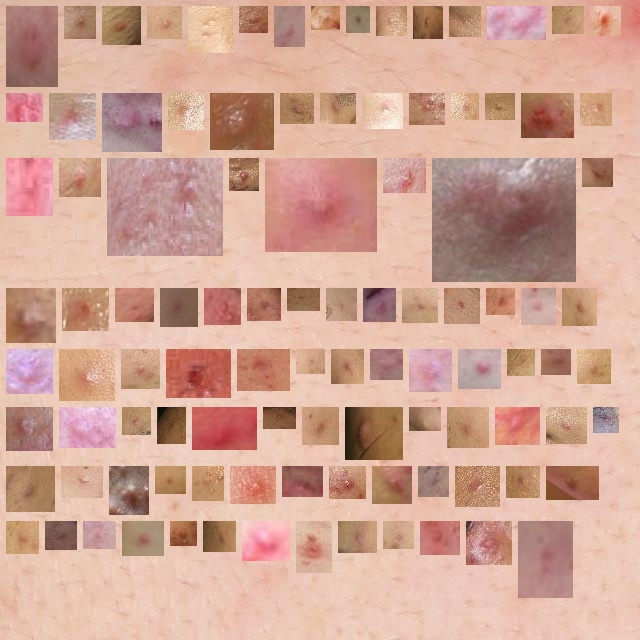papule: (440, 166, 568, 274), (115, 166, 215, 248), (273, 166, 369, 244), (526, 529, 565, 590), (14, 14, 50, 79), (218, 101, 266, 142), (110, 101, 154, 144), (174, 357, 223, 390), (353, 415, 395, 452), (67, 357, 107, 393), (14, 296, 48, 335), (200, 415, 249, 442), (14, 166, 45, 208), (529, 101, 566, 130), (67, 415, 108, 440), (14, 474, 47, 504), (245, 357, 282, 383), (57, 101, 88, 132), (196, 14, 225, 45), (14, 357, 45, 386), (14, 415, 45, 443), (474, 529, 504, 557), (70, 296, 101, 323), (117, 474, 141, 507), (495, 14, 538, 32), (250, 529, 282, 553), (417, 357, 444, 384), (463, 474, 492, 499), (304, 529, 324, 565), (554, 474, 591, 492), (238, 474, 268, 496), (455, 415, 481, 440), (466, 357, 493, 381), (503, 415, 532, 437), (67, 166, 93, 189), (129, 357, 152, 381), (290, 474, 315, 496), (110, 14, 133, 37), (380, 474, 404, 496), (554, 415, 579, 436), (391, 166, 418, 185), (168, 296, 190, 319), (370, 101, 395, 121), (130, 529, 156, 548), (310, 415, 331, 437), (212, 296, 233, 317), (428, 529, 452, 547), (176, 101, 196, 122), (570, 296, 589, 318), (69, 474, 95, 490), (123, 296, 146, 314), (452, 296, 472, 316), (529, 296, 548, 317), (410, 296, 430, 315), (282, 14, 297, 39), (346, 529, 369, 545), (337, 474, 358, 491), (585, 357, 603, 376), (155, 14, 174, 31), (339, 357, 356, 376), (417, 101, 437, 117), (255, 296, 273, 313), (371, 296, 388, 314), (200, 474, 216, 493), (328, 101, 348, 116), (14, 529, 31, 546), (514, 474, 532, 490), (14, 101, 35, 114), (165, 415, 178, 436), (72, 14, 88, 31), (588, 101, 604, 118), (288, 101, 306, 116), (334, 296, 349, 313), (378, 357, 395, 372), (211, 529, 228, 544), (457, 14, 473, 29), (417, 415, 433, 430), (421, 14, 435, 31), (237, 166, 251, 183), (426, 474, 441, 489), (384, 14, 399, 28), (598, 14, 613, 28), (53, 529, 69, 542), (91, 529, 108, 541), (590, 166, 605, 179), (560, 14, 576, 26), (271, 410, 288, 421), (163, 474, 178, 486), (391, 529, 406, 541), (295, 293, 312, 303), (130, 415, 143, 427), (493, 101, 507, 112), (247, 14, 260, 25), (494, 296, 507, 307), (549, 357, 563, 367), (459, 101, 471, 112), (515, 357, 527, 368), (304, 357, 317, 366), (319, 14, 332, 22), (601, 415, 611, 425), (178, 529, 189, 538), (354, 14, 362, 25)
